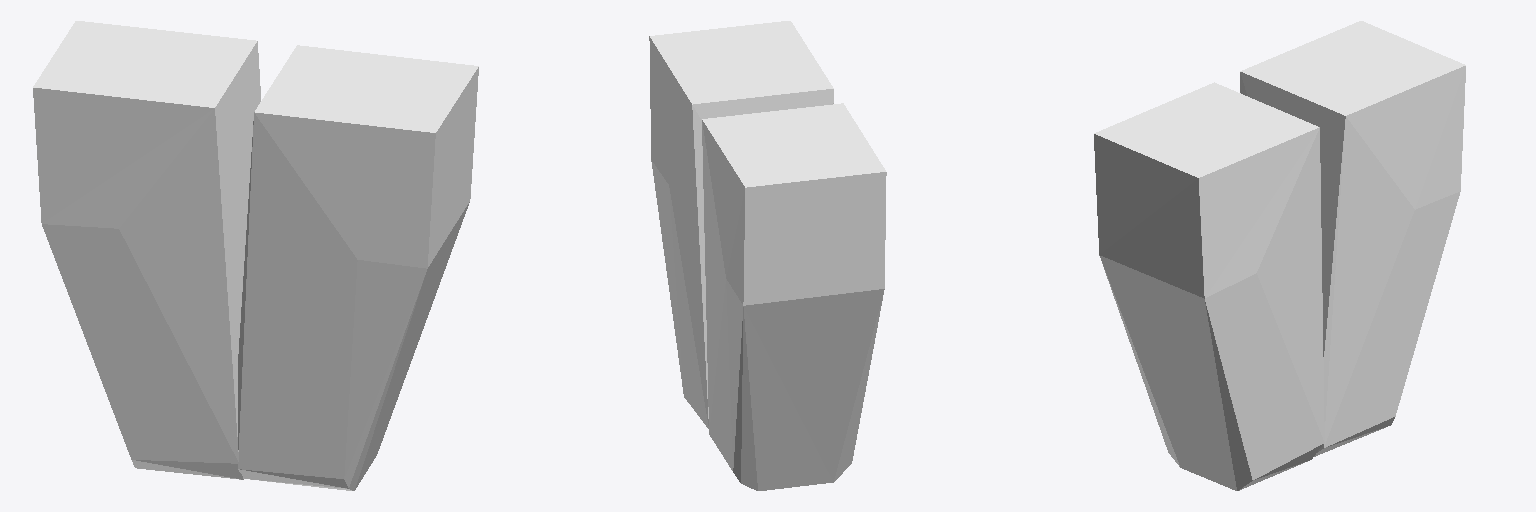
robot.urdf — panda:
<?xml version="1.0" ?>
<!-- =================================================================================== -->
<!-- |    This document was autogenerated by xacro from panda_arm_hand.urdf.xacro      | -->
<!-- |    EDITING THIS FILE BY HAND IS NOT RECOMMENDED                                 | -->
<!-- =================================================================================== -->
<robot name="panda" xmlns:xacro="http://www.ros.org/wiki/xacro">
<link name="world"/>
<joint name="base_joint" type="fixed">
    <origin rpy="0 0 0" xyz="0 0 0"/>
    <parent link="world"/>
    <child link="panda_link0"/>
  </joint>
  <link name="panda_link0">
  	<inertial>
      <origin rpy="0 0 0" xyz="0 0 0.05"/>
       <mass value="2.9"/>
       <inertia ixx="0.1" ixy="0" ixz="0" iyy="0.1" iyz="0" izz="0.1"/>
    </inertial>
    <visual>
      <geometry>
        <mesh filename="meshes/collision/link0.obj"/>
      </geometry>
      <material name="panda_white">
    		<color rgba="1. 1. 1. 1."/>
  		</material>
    </visual>
    <collision>
      <geometry>
        <mesh filename="meshes/collision/link0.obj"/>
      </geometry>
      <material name="panda_white"/>
    </collision>
  </link>
  <link name="panda_link1">
  	<inertial>
      <origin rpy="0 0 0" xyz="0 -0.04 -0.05"/>
       <mass value="2.7"/>
       <inertia ixx="0.1" ixy="0" ixz="0" iyy="0.1" iyz="0" izz="0.1"/>
    </inertial>
    <visual>
      <geometry>
        <mesh filename="meshes/visual/link1.obj"/>
      </geometry>
      <material name="panda_white"/>
    </visual>
    <collision>
      <geometry>
        <mesh filename="meshes/collision/link1.obj"/>
      </geometry>
      <material name="panda_white"/>
    </collision>
  </link>
  <joint name="panda_joint1" type="revolute">
    <safety_controller k_position="100.0" k_velocity="40.0" soft_lower_limit="-2.8973" soft_upper_limit="2.8973"/>
    <origin rpy="0 0 0" xyz="0 0 0.333"/>
    <parent link="panda_link0"/>
    <child link="panda_link1"/>
    <axis xyz="0 0 1"/>
    <limit effort="87" lower="-2.9671" upper="2.9671" velocity="2.1750"/>
  </joint>
  <link name="panda_link2">
  	<inertial>
      <origin rpy="0 0 0" xyz="0 -0.04 0.06"/>
       <mass value="2.73"/>
       <inertia ixx="0.1" ixy="0" ixz="0" iyy="0.1" iyz="0" izz="0.1"/>
    </inertial>
    <visual>
      <geometry>
        <mesh filename="meshes/visual/link2.obj"/>
      </geometry>
      <material name="panda_white"/>
    </visual>
    <collision>
      <geometry>
        <mesh filename="meshes/collision/link2.obj"/>
      </geometry>
      <material name="panda_white"/>
    </collision>
  </link>
  <joint name="panda_joint2" type="revolute">
    <safety_controller k_position="100.0" k_velocity="40.0" soft_lower_limit="-1.7628" soft_upper_limit="1.7628"/>
    <origin rpy="-1.57079632679 0 0" xyz="0 0 0"/>
    <parent link="panda_link1"/>
    <child link="panda_link2"/>
    <axis xyz="0 0 1"/>
    <limit effort="87" lower="-1.8326" upper="1.8326" velocity="2.1750"/>
  </joint>
  <link name="panda_link3">
	  <inertial>
      <origin rpy="0 0 0" xyz="0.01 0.01 -0.05"/>
       <mass value="2.04"/>
       <inertia ixx="0.1" ixy="0" ixz="0" iyy="0.1" iyz="0" izz="0.1"/>
    </inertial>
    <visual>
      <geometry>
        <mesh filename="meshes/visual/link3.obj"/>
      </geometry>
      <material name="panda_red">
    		<color rgba="1. 1. 1. 1."/>
  		</material>
    </visual>
    <collision>
      <geometry>
        <mesh filename="meshes/collision/link3.obj"/>
      </geometry>
    </collision>
  </link>
  <joint name="panda_joint3" type="revolute">
    <safety_controller k_position="100.0" k_velocity="40.0" soft_lower_limit="-2.8973" soft_upper_limit="2.8973"/>
    <origin rpy="1.57079632679 0 0" xyz="0 -0.316 0"/>
    <parent link="panda_link2"/>
    <child link="panda_link3"/>
    <axis xyz="0 0 1"/>
    <limit effort="87" lower="-2.9671" upper="2.9671" velocity="2.1750"/>
  </joint>
  <link name="panda_link4">
  	<inertial>
      <origin rpy="0 0 0" xyz="-0.03 0.03 0.02"/>
       <mass value="2.08"/>
       <inertia ixx="0.1" ixy="0" ixz="0" iyy="0.1" iyz="0" izz="0.1"/>
    </inertial>
    <visual>
      <geometry>
        <mesh filename="meshes/visual/link4.obj"/>
      </geometry>
      <material name="panda_white"/>
    </visual>
    <collision>
      <geometry>
        <mesh filename="meshes/collision/link4.obj"/>
      </geometry>
      <material name="panda_white"/>
    </collision>
  </link>
  <joint name="panda_joint4" type="revolute">
    <safety_controller k_position="100.0" k_velocity="40.0" soft_lower_limit="-3.0718" soft_upper_limit="-0.0698"/>
    <origin rpy="1.57079632679 0 0" xyz="0.0825 0 0"/>
    <parent link="panda_link3"/>
    <child link="panda_link4"/>
    <axis xyz="0 0 1"/>
    <limit effort="87" lower="-3.1416" upper="0.0" velocity="2.1750"/>
  </joint>
  <link name="panda_link5">
  	<inertial>
      <origin rpy="0 0 0" xyz="0 0.04 -0.12"/>
       <mass value="3"/>
       <inertia ixx="0.1" ixy="0" ixz="0" iyy="0.1" iyz="0" izz="0.1"/>
    </inertial>
    <visual>
      <geometry>
        <mesh filename="meshes/visual/link5.obj"/>
      </geometry>
      <material name="panda_white"/>
    </visual>
    <collision>
      <geometry>
        <mesh filename="meshes/collision/link5.obj"/>
      </geometry>
      <material name="panda_white"/>
    </collision>
  </link>
  <joint name="panda_joint5" type="revolute">
    <safety_controller k_position="100.0" k_velocity="40.0" soft_lower_limit="-2.8973" soft_upper_limit="2.8973"/>
    <origin rpy="-1.57079632679 0 0" xyz="-0.0825 0.384 0"/>
    <parent link="panda_link4"/>
    <child link="panda_link5"/>
    <axis xyz="0 0 1"/>
    <limit effort="12" lower="-2.9671" upper="2.9671" velocity="2.6100"/>
  </joint>
  <link name="panda_link6">
  	<inertial>
      <origin rpy="0 0 0" xyz="0.04 0 0"/>
       <mass value="1.3"/>
       <inertia ixx="0.1" ixy="0" ixz="0" iyy="0.1" iyz="0" izz="0.1"/>
    </inertial>
    <visual>
      <geometry>
        <mesh filename="meshes/visual/link6.obj"/>
      </geometry>
      <material name="panda_white"/>
    </visual>
    <collision>
      <geometry>
        <mesh filename="meshes/collision/link6.obj"/>
      </geometry>
      <material name="panda_white"/>
    </collision>
  </link>
  <joint name="panda_joint6" type="revolute">
    <safety_controller k_position="100.0" k_velocity="40.0" soft_lower_limit="-0.0175" soft_upper_limit="3.7525"/>
    <origin rpy="1.57079632679 0 0" xyz="0 0 0"/>
    <parent link="panda_link5"/>
    <child link="panda_link6"/>
    <axis xyz="0 0 1"/>
    <limit effort="12" lower="-0.0873" upper="3.8223" velocity="2.6100"/>
  </joint>
  <link name="panda_link7">
  	<inertial>
      <origin rpy="0 0 0" xyz="0 0 0.08"/>
       <mass value=".2"/>
       <inertia ixx="0.1" ixy="0" ixz="0" iyy="0.1" iyz="0" izz="0.1"/>
    </inertial>
    <visual>
      <geometry>
        <mesh filename="meshes/collision/link7.obj"/>
      </geometry>
      <material name="panda_white"/>
    </visual>
    <collision>
      <geometry>
        <mesh filename="meshes/collision/link7.obj"/>
      </geometry>
      <material name="panda_white"/>
    </collision>
  </link>
  <joint name="panda_joint7" type="revolute">
    <safety_controller k_position="100.0" k_velocity="40.0" soft_lower_limit="-2.8973" soft_upper_limit="2.8973"/>
    <origin rpy="1.57079632679 0 0" xyz="0.088 0 0"/>
    <parent link="panda_link6"/>
    <child link="panda_link7"/>
    <axis xyz="0 0 1"/>
    <limit effort="12" lower="-2.9671" upper="2.9671" velocity="2.6100"/>
  </joint>
  <link name="panda_link8">
  </link>
  <joint name="panda_joint8" type="fixed">
    <origin rpy="0 0 0" xyz="0 0 0.107"/>
    <parent link="panda_link7"/>
    <child link="panda_link8"/>
    <axis xyz="0 0 0"/>
  </joint>
  <joint name="panda_hand_joint" type="fixed">
    <parent link="panda_link8"/>
    <child link="panda_hand"/>
    <origin rpy="0 0 -0.785398163397" xyz="0 0 0"/>
  </joint>
  <link name="panda_hand">
  	<inertial>
      <origin rpy="0 0 0" xyz="0 0 0.04"/>
       <mass value=".81"/>
       <inertia ixx="0.1" ixy="0" ixz="0" iyy="0.1" iyz="0" izz="0.1"/>
    </inertial>
    <visual>
      <geometry>
        <mesh filename="meshes/visual/hand.obj"/>
      </geometry>
      <material name="panda_white"/>
    </visual>
    <collision>
      <geometry>
        <mesh filename="meshes/collision/hand.obj"/>
      </geometry>
      <material name="panda_white"/>
    </collision>
  </link>
  <link name="panda_leftfinger">
       <contact>
      <friction_anchor/>
      <stiffness value="30000.0"/>
      <damping value="1000.0"/>
      <spinning_friction value="0.1"/>
      <lateral_friction value="1.0"/>
    </contact>
  	<inertial>
      <origin rpy="0 0 0" xyz="0 0.01 0.02"/>
       <mass value="0.1"/>
       <inertia ixx="0.1" ixy="0" ixz="0" iyy="0.1" iyz="0" izz="0.1"/>
    </inertial>
    <visual>
      <geometry>
        <!-- <mesh filename="meshes/visual/finger.obj"/> -->
        <!-- <mesh filename="meshes/visual/finger_vis.obj"/> -->
        <mesh filename="meshes/collision/finger_transformed.obj"/>
      </geometry>
      <material name="panda_white"/>
    </visual>
    <collision>
      <geometry>
        <mesh filename="meshes/collision/finger_transformed.obj"/>
      </geometry>
      <material name="panda_white"/>
    </collision>
  </link>
  <link name="panda_rightfinger">
        <contact>
      <friction_anchor/>
      <stiffness value="30000.0"/>
      <damping value="1000.0"/>
      <spinning_friction value="0.1"/>
      <lateral_friction value="1.0"/>
    </contact>

  	<inertial>
      <origin rpy="0 0 0" xyz="0 -0.01 0.02"/>
       <mass value="0.1"/>
       <inertia ixx="0.1" ixy="0" ixz="0" iyy="0.1" iyz="0" izz="0.1"/>
    </inertial>
    <visual>
      <origin rpy="0 0 0" xyz="0 0 0"/>
      <geometry>
        <!-- <mesh filename="meshes/visual/finger.obj"/> -->
        <!-- <mesh filename="meshes/visual/finger_vis.obj"/> -->
        <mesh filename="meshes/collision/finger_transformed.obj"/>
      </geometry>
      <material name="panda_white"/>
    </visual>
    <collision>
      <origin rpy="0 0 0" xyz="0 0 0"/>
      <geometry>
        <!-- <mesh filename="meshes/collision/finger.obj"/> -->
        <mesh filename="meshes/collision/finger_transformed.obj"/>
      </geometry>
      <material name="panda_white"/>
    </collision>
  </link>
  <joint name="panda_finger_joint1" type="prismatic">
    <parent link="panda_hand"/>
    <child link="panda_leftfinger"/>
    <origin rpy="0 0 0" xyz="0 0.01 0.0684"/>
    <axis xyz="0 1 0"/>
    <limit effort="20" lower="0.0" upper="0.04" velocity="0.2"/>
  </joint>
  <joint name="panda_finger_joint2" type="prismatic">
    <parent link="panda_hand"/>
    <child link="panda_rightfinger"/>
    <origin rpy="0 0 3.14" xyz="0 -0.01 0.0684"/>
    <axis xyz="0 1 0"/>
    <limit effort="20" lower="0.0" upper="0.04" velocity="0.2"/>
    <!-- <mimic joint="panda_finger_joint1"/> -->
  </joint>

  <link name="cap_link">
   <inertial>
     <origin rpy="0 0 0" xyz="-0.0 -0. 0."/>
     <mass value="0.0001"/>
     <inertia ixx="0.001" ixy="0" ixz="0" iyy="0.001" iyz="0" izz="0.001"/>
   </inertial>
   <visual>
     <origin rpy="0 0 0" xyz="-0. -0.0 -0.0"/>
     <geometry>
       <mesh filename="../bottle_cap/textured_objs/cap6.obj" scale="0.15 0.15 0.15"/>
     </geometry>
   </visual>
   <collision>
     <origin rpy="0 0 0" xyz="-0.0 0. 0."/>
     <geometry>
 	      <mesh filename="../bottle_cap/textured_objs/cap6.obj" scale="0.15 0.15 0.15"/>
     </geometry>
   </collision>
  </link>
   <joint name="panda_grasptarget_hand" type="fixed">
    <parent link="panda_hand"/>
    <child link="cap_link"/>
    <origin rpy="1.571 0 0.523" xyz="0 0 -0.05"/>
  </joint>


</robot>

--- What the picture shows (computed from the rendered views, not written in the file) ---
Views: 3 orthographic renders of the robot side by side, from view 1: azimuth 30°, elevation 25°; view 2: azimuth 150°, elevation 25°; view 3: azimuth 270°, elevation 25°.
Model panda with 14 links and 13 joints (7 revolute, 2 prismatic, 4 fixed), rooted at world, posed all joints at 0.
Links seen in each view (by area): view 1: panda_leftfinger, panda_rightfinger; view 2: panda_rightfinger, panda_leftfinger; view 3: panda_leftfinger, panda_rightfinger.
Link boxes in pixels (box(x1,y1,x2,y2)): panda_leftfinger: box(238, 45, 478, 490); panda_rightfinger: box(33, 21, 260, 479); panda_rightfinger: box(702, 103, 886, 490); panda_leftfinger: box(649, 21, 833, 428); panda_leftfinger: box(1094, 82, 1324, 490); panda_rightfinger: box(1240, 21, 1465, 456).
Bounding box of the posed robot: 0.052 × 0.0519 × 0.0537 m (x, y, z).
Meshes: 11 distinct files referenced, 2 mesh visuals loaded (1 OBJ); not drawn: 10 (reference not matched to a file when rendering).